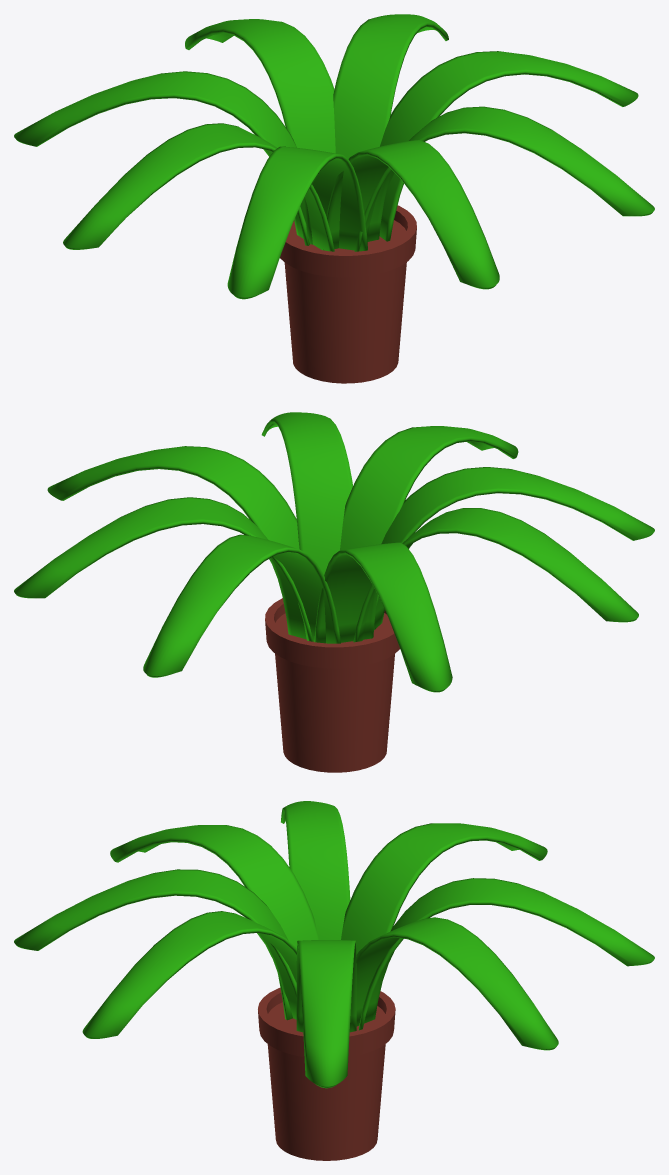
The model's file is kwiatek_1.fbx.
The picture shows the model from 3 angles, top to bottom: view 1: azimuth 30°, elevation 25°; view 2: azimuth 150°, elevation 25°; view 3: azimuth 270°, elevation 25°; orthographic projection. The views are drawn at different scales.
Parts seen in each view (by area): view 1: SurfPatch.001, Cylinder; view 2: SurfPatch.001, Cylinder; view 3: SurfPatch.001, Cylinder.
Part boxes in pixels (x1=…): SurfPatch.001: x1=14, y1=14, x2=654, y2=299; Cylinder: x1=280, y1=205, x2=416, y2=383; SurfPatch.001: x1=14, y1=412, x2=654, y2=692; Cylinder: x1=265, y1=598, x2=399, y2=772; SurfPatch.001: x1=14, y1=801, x2=654, y2=1088; Cylinder: x1=258, y1=988, x2=395, y2=1160.
Size of the model in its own units: 1082 by 466 by 1065.
